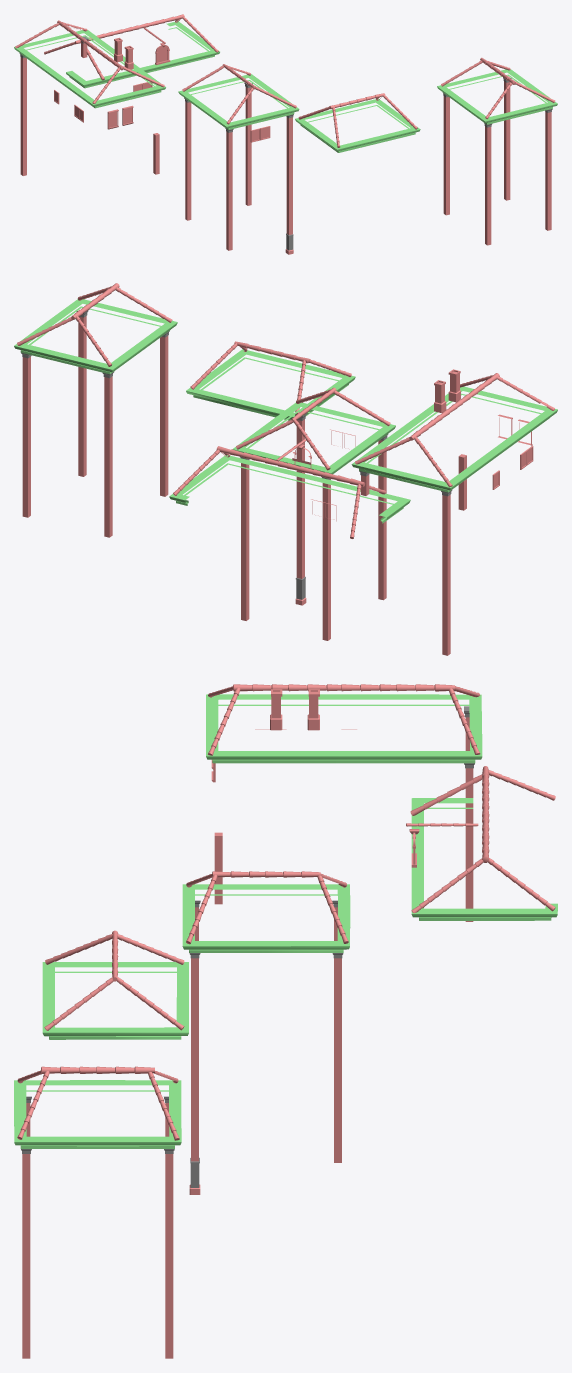
The model's file is S_Envi_Fyz_BuildingMerge_01b.gltf.
3 renders of one model, top to bottom at view 1: azimuth 30°, elevation 25°; view 2: azimuth 150°, elevation 25°; view 3: azimuth 270°, elevation 25°, orthographic. The views are drawn at different scales.
Visible parts, largest first — view 1: S_Envi_Fyz_BuildingMerge_01b; view 2: S_Envi_Fyz_BuildingMerge_01b; view 3: S_Envi_Fyz_BuildingMerge_01b.
Boxes of the visible parts, x1,y1,x2,y2 form: S_Envi_Fyz_BuildingMerge_01b: (14,14,557,254); S_Envi_Fyz_BuildingMerge_01b: (14,283,557,655); S_Envi_Fyz_BuildingMerge_01b: (14,684,557,1358).
Size of the model in its own units: 51.91 by 26.86 by 34.41.
